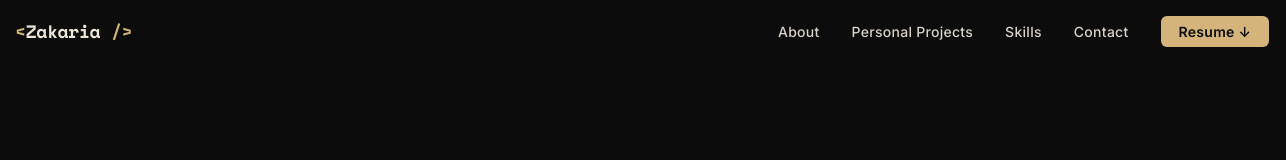
Test: Nav › toggles the mobile menu from the burger button
Earlier steps of the test are not shown.
Expected: the list with class "nav-links" has class "open", [778, 19, 1269, 44]
Click the link "About" at point(799, 31), box [778, 23, 820, 40]
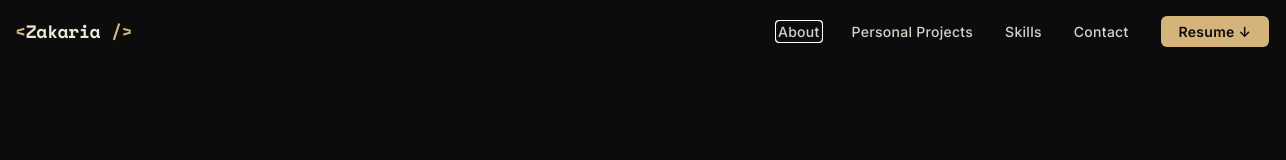
Expected: the list with class "nav-links" does not have class "open", [778, 19, 1269, 44]
